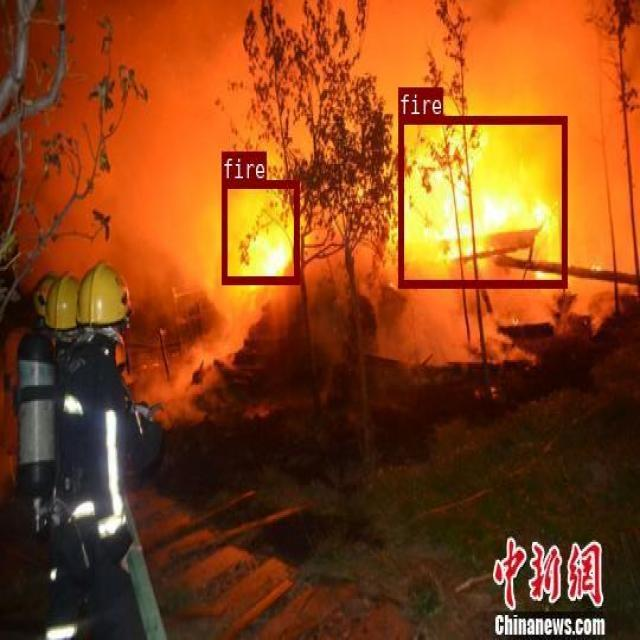fire: (398, 115, 566, 286), (221, 179, 298, 282)
